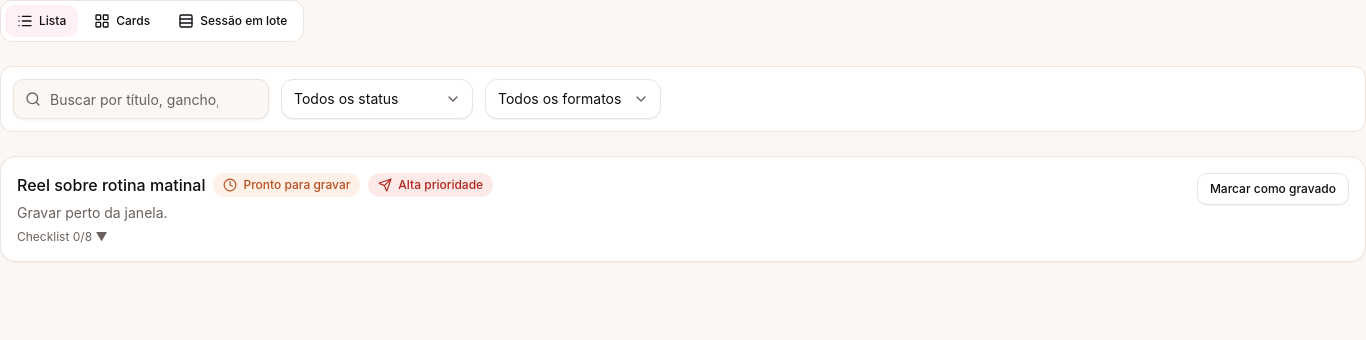
Test: GravacaoWorkspace › alterna para o modo cards
The image size is (1366, 340).
What coordinates should you click on to do the following:
click the button "Cards"
I would click on:
 (122, 21)
Its box is [82, 5, 162, 37].
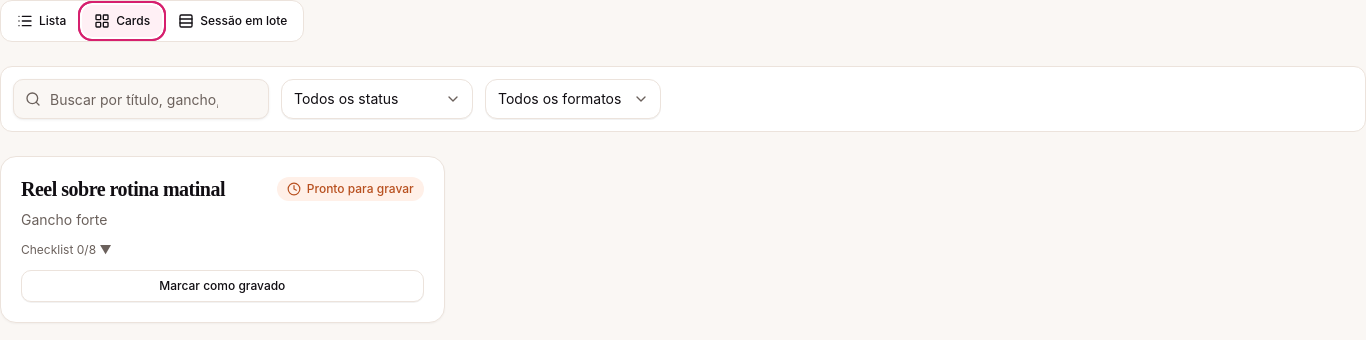
Expected: the text "Gancho forte" is shown, [21, 211, 108, 228]
